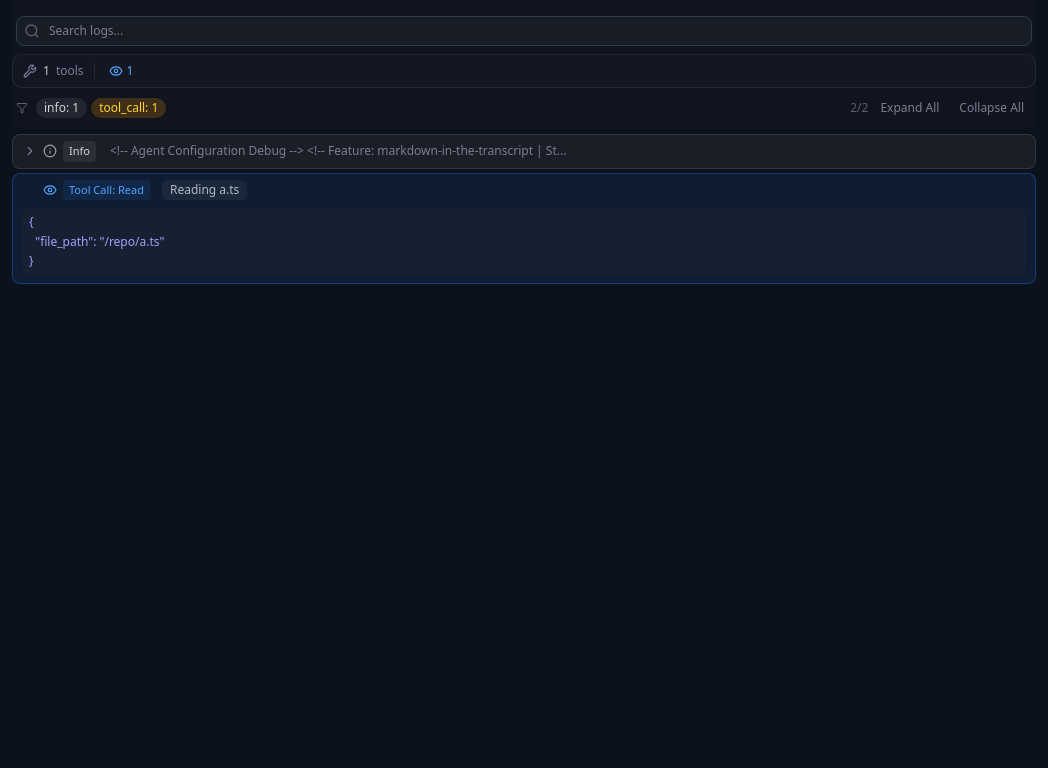
Test: LogViewer markdown rendering › renders agent prose as markdown
This screenshot has width=1048, height=768.
Click the button with test id "log-expand-all": (910, 108) 872,96 -> 947,120
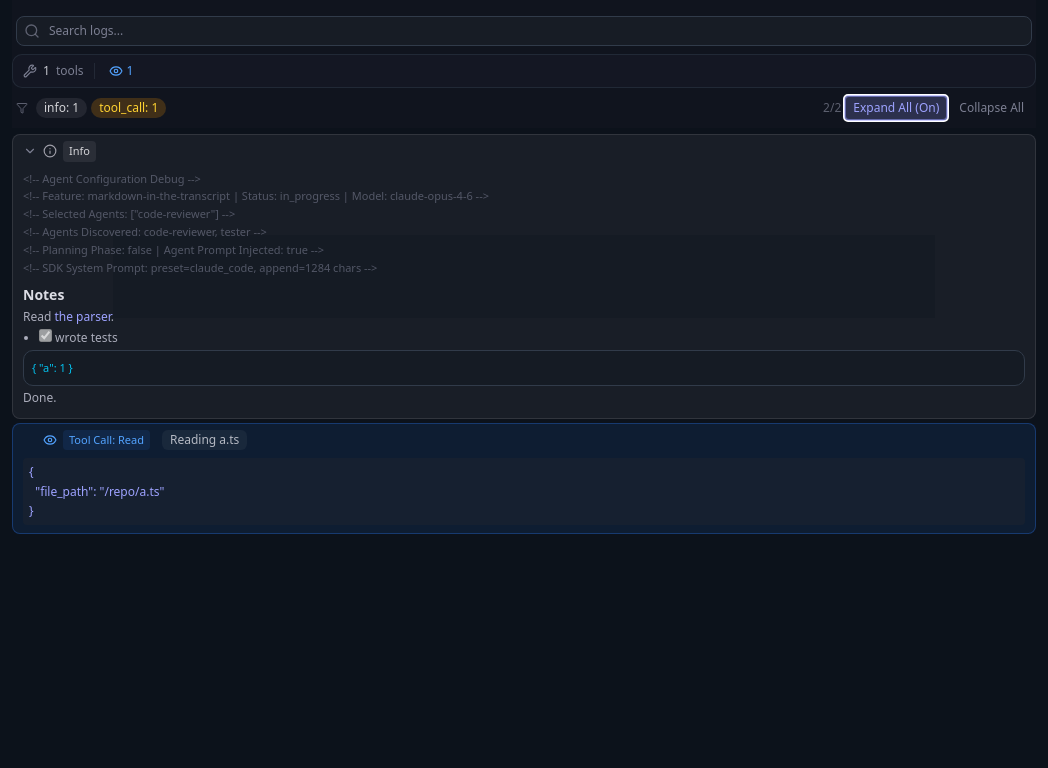
Now the heading "Notes" is shown, box 23,285 -> 64,304
Now the checkbox is checked, box 39,329 -> 52,342
